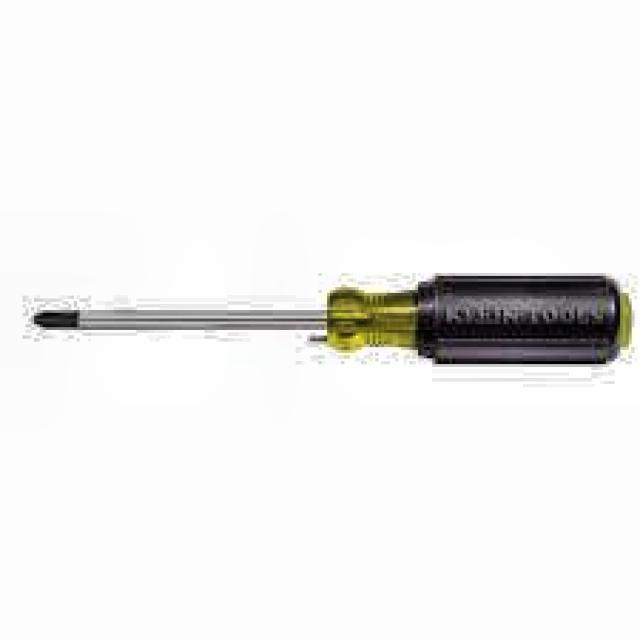screwdriver: (35, 272, 633, 365)
